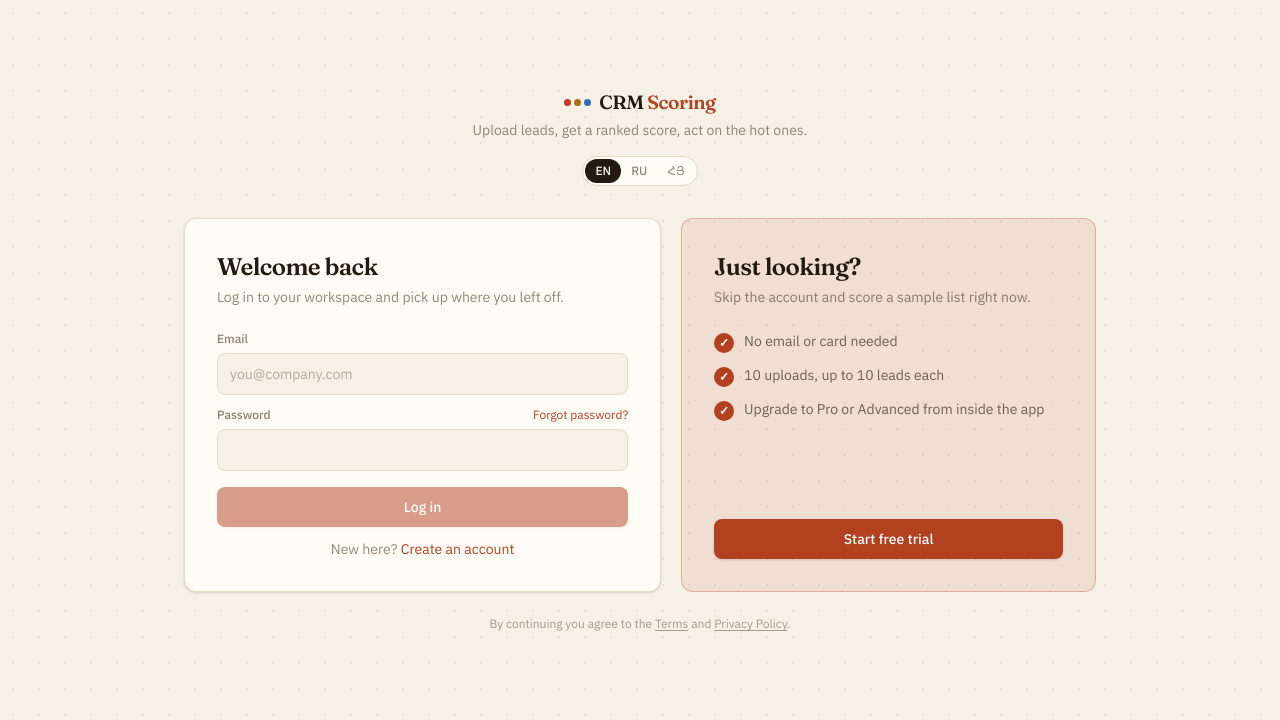
AuthPage › sends a password reset link
This screenshot has width=1280, height=720.
Click the button "Forgot password?" at [581, 416], box [533, 408, 628, 424]
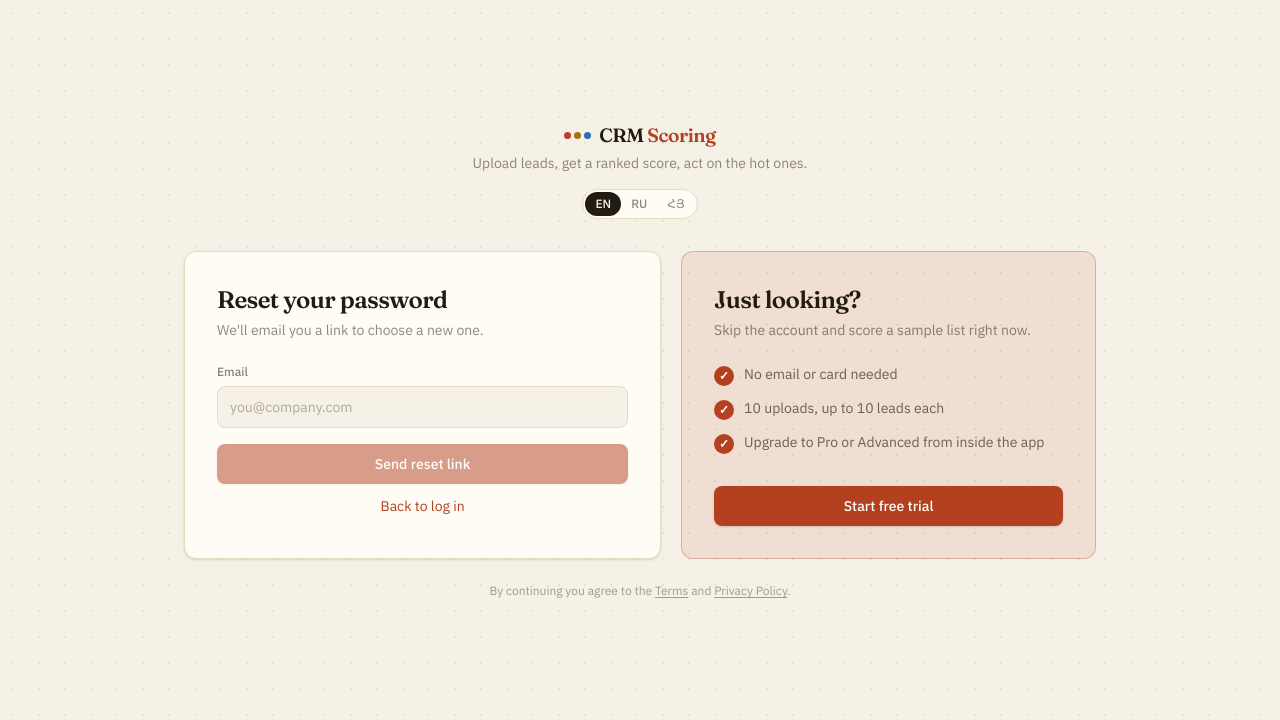
Type "tina@example.com" into the field labelled "Email" at [423, 408], box [217, 386, 628, 428]
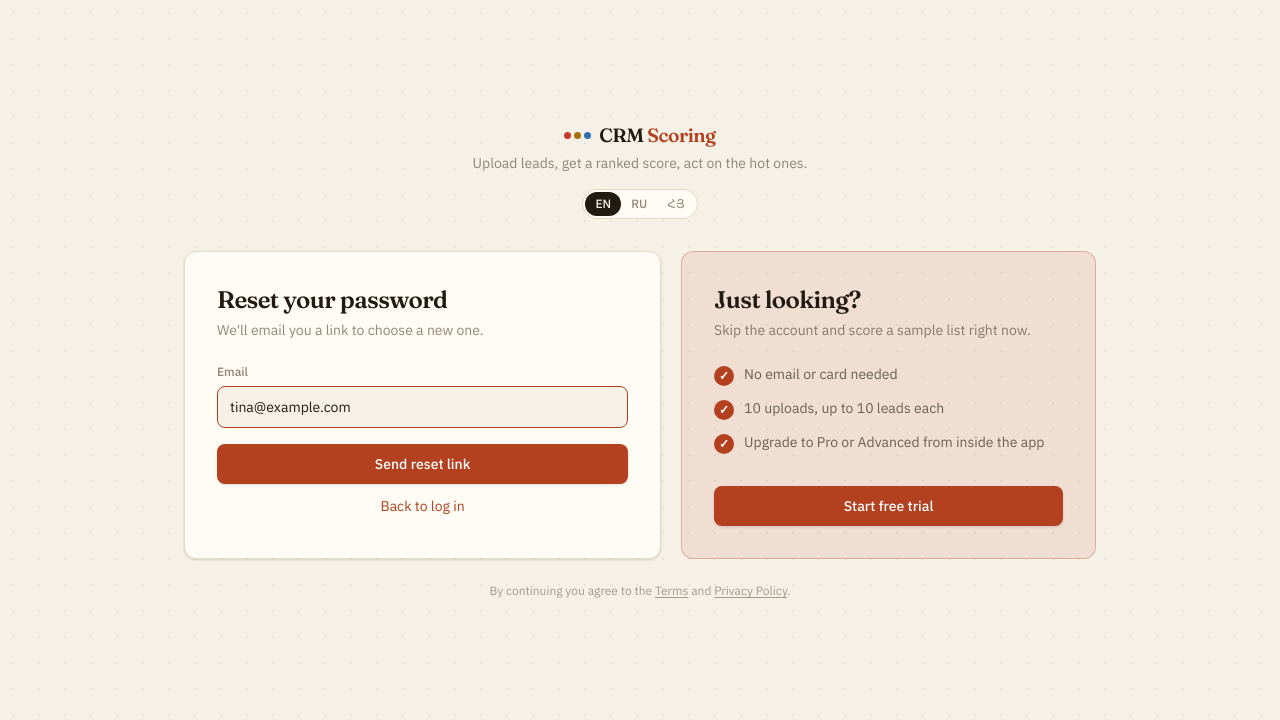
Click the button "Send reset link" at [423, 464], box [217, 444, 628, 484]
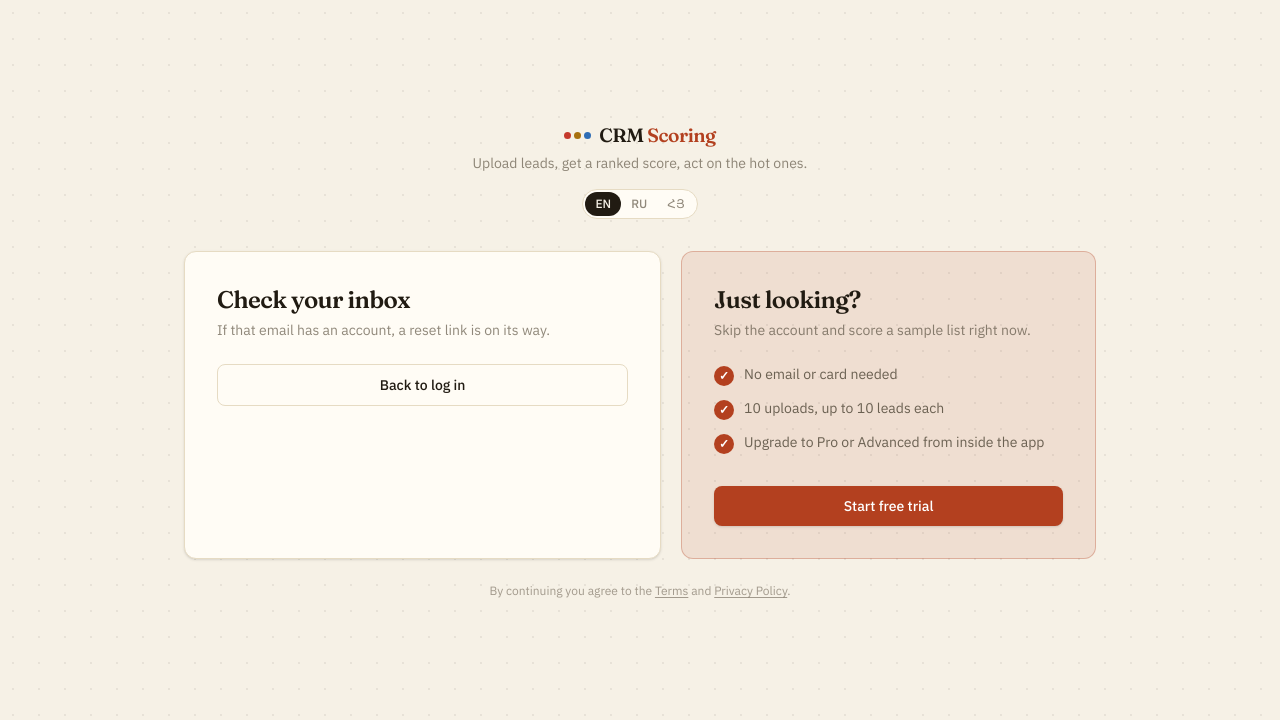
Expected: the heading "Check your inbox" is shown, [217, 286, 410, 314]
